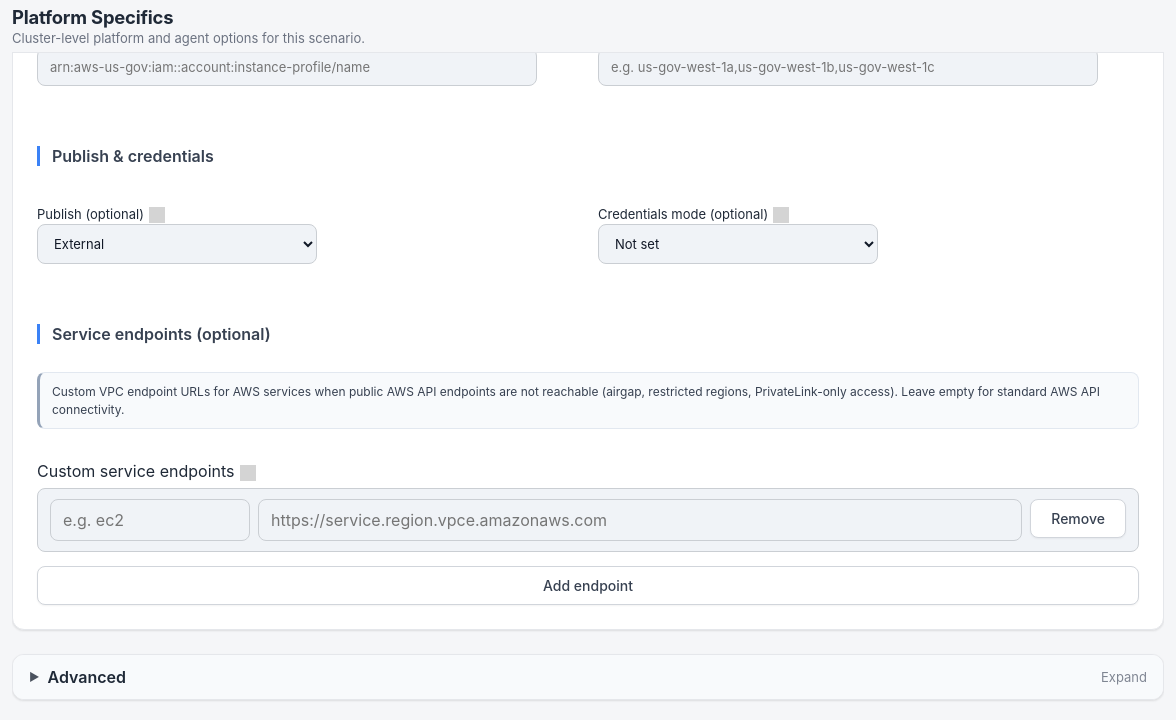
Test: DOC-102 Slice 5H PlatformSpecifics Visibility V1 › 1. Real catalog regressions › aws-govcloud-ipi 4.20: both hyperthreading selects render
(page scrolled)
Click the button "▶ Advanced Expand" at {"x": 87, "y": 677}, box [13,655,1163,699]
(page scrolled)
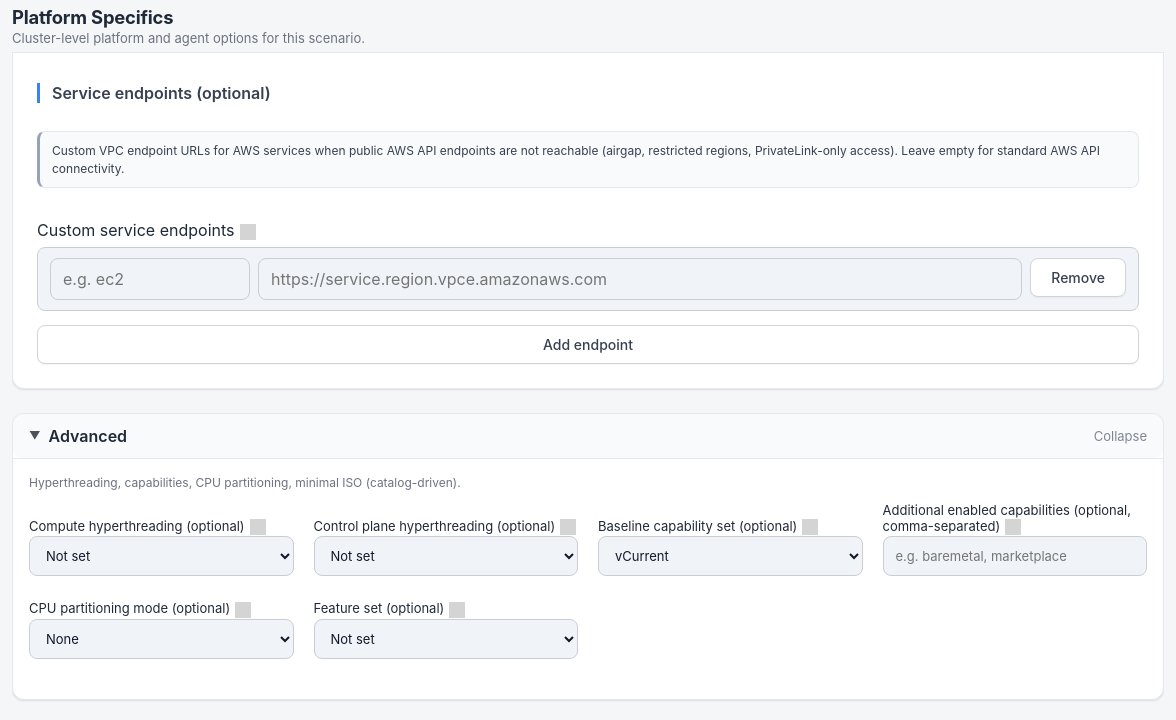
Check: the dropdown labelled "Compute hyperthreading" is shown, box [29,536,294,576]
Check: the dropdown labelled "Control plane hyperthreading" is shown, box [314,536,578,576]
